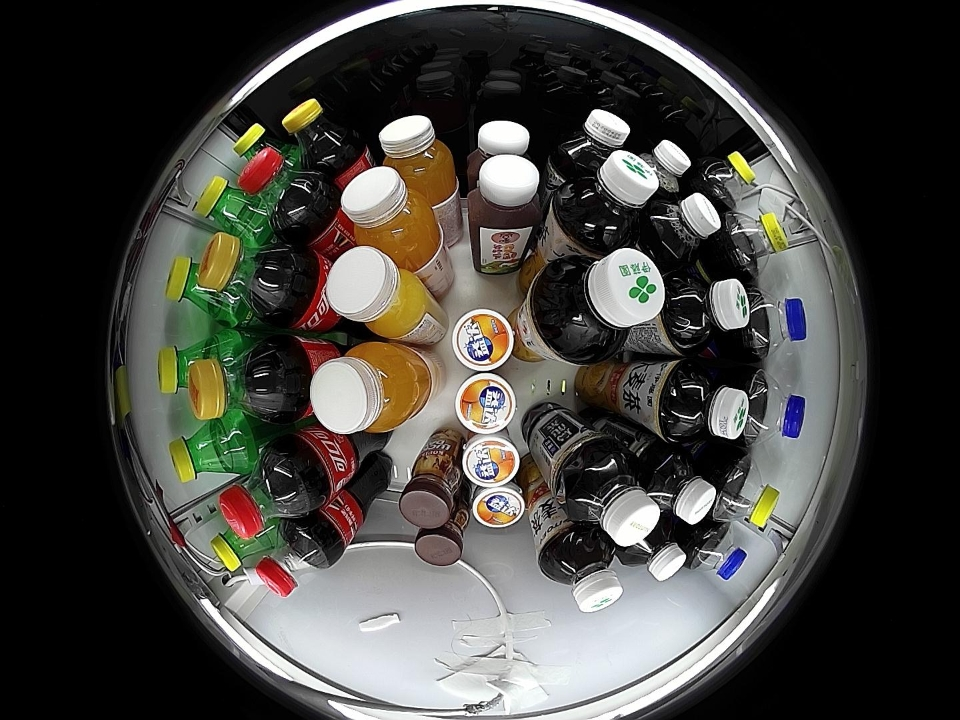baishikele: (713, 455, 782, 529), (721, 209, 787, 277), (697, 151, 757, 208)
baishikele-2: (740, 371, 806, 446), (742, 288, 808, 359), (685, 522, 748, 581)
damaicha: (531, 248, 665, 362), (553, 150, 657, 248), (658, 362, 749, 444), (540, 526, 623, 613), (662, 274, 751, 355)
kele-b: (219, 449, 310, 539), (239, 146, 324, 233), (256, 522, 333, 598)
kele-b-2: (198, 232, 296, 324), (187, 337, 287, 423), (281, 97, 356, 169)
lujikafei: (399, 453, 464, 529), (413, 509, 470, 567)
nfc: (325, 245, 427, 339)
weic: (309, 342, 432, 434), (340, 166, 444, 269), (377, 114, 458, 203)
wulongcha: (565, 450, 660, 546), (645, 192, 722, 265), (644, 448, 717, 525), (553, 108, 631, 175), (620, 517, 687, 581), (636, 139, 691, 198)
xuebi-b: (169, 417, 235, 483), (195, 176, 263, 239), (166, 257, 229, 322), (158, 335, 220, 395), (210, 524, 272, 572), (232, 122, 285, 163)
yida: (452, 308, 515, 372), (454, 372, 518, 434), (460, 434, 521, 487), (471, 483, 528, 530)
youyanggudong: (467, 153, 544, 235), (467, 120, 533, 177)
